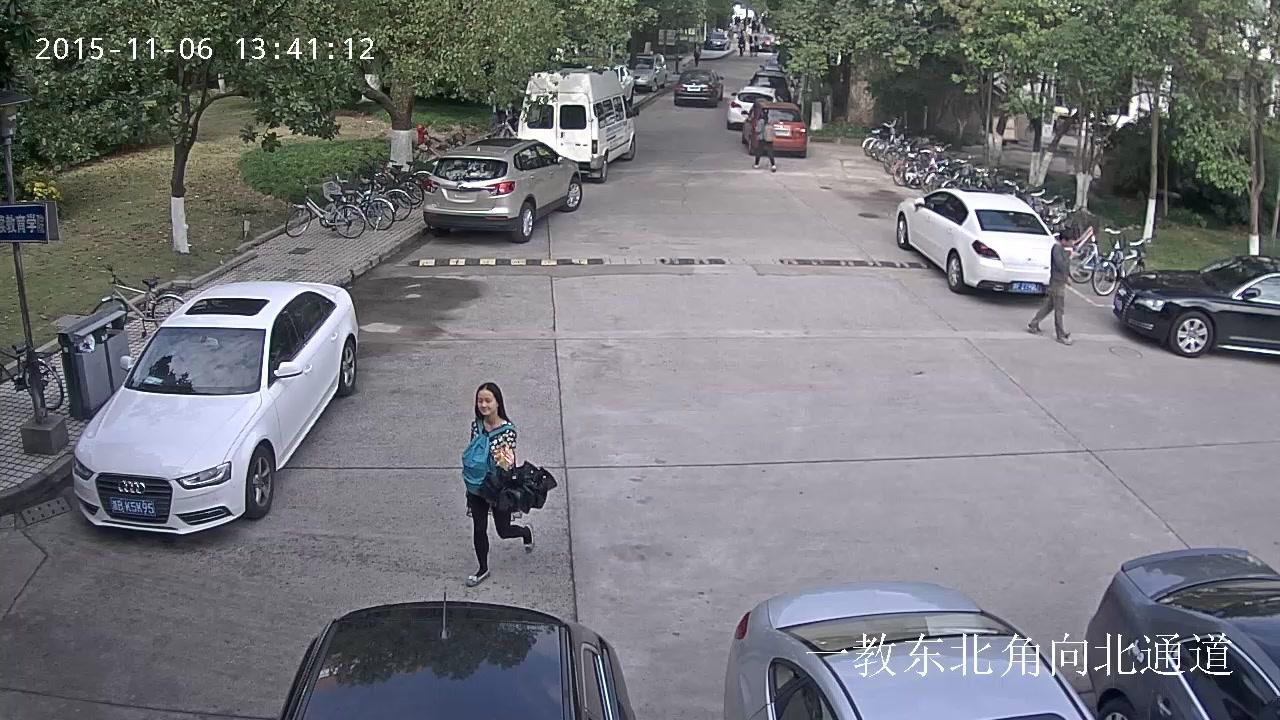person: (460, 379, 558, 586), (460, 381, 534, 586), (1026, 226, 1073, 346), (751, 107, 777, 172), (736, 32, 745, 56), (693, 40, 700, 66)
